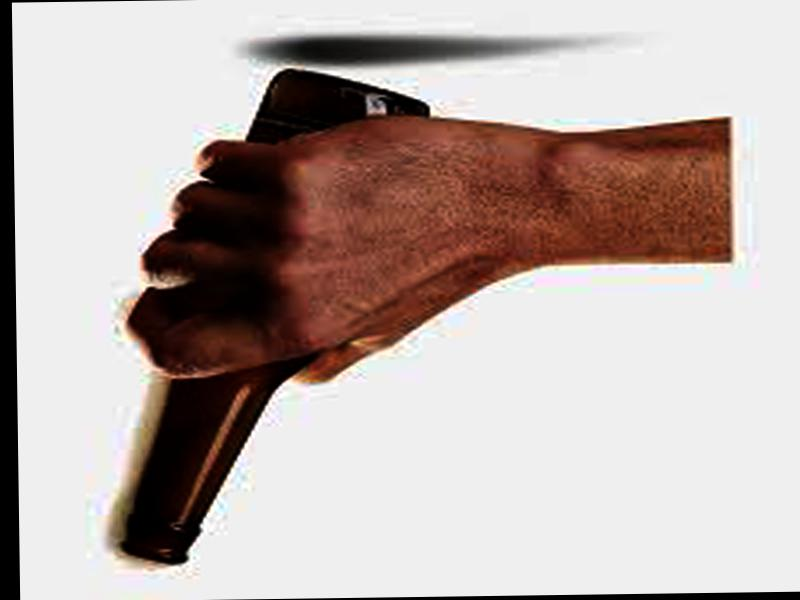Beer: (114, 61, 435, 562)
